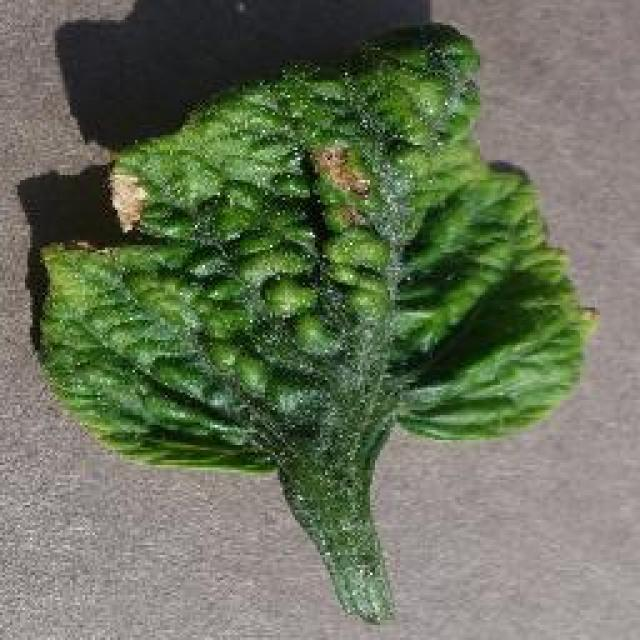Tomato yellow virus leaf: (34, 21, 594, 474)
